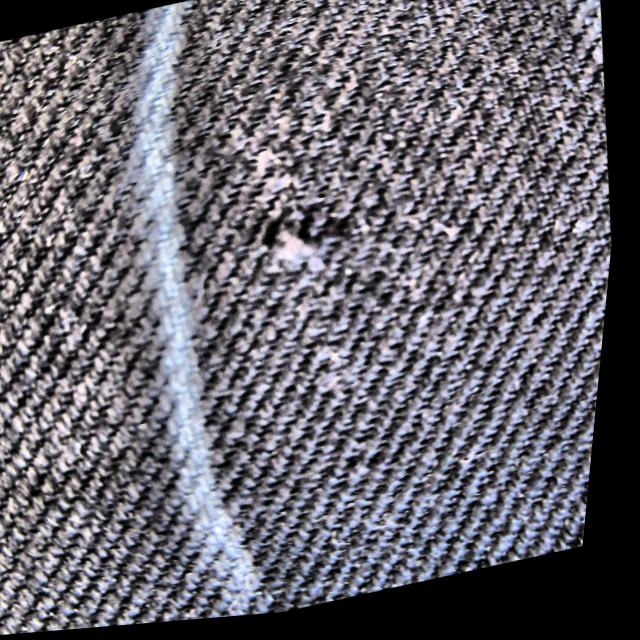Hole: (258, 212, 325, 284)
